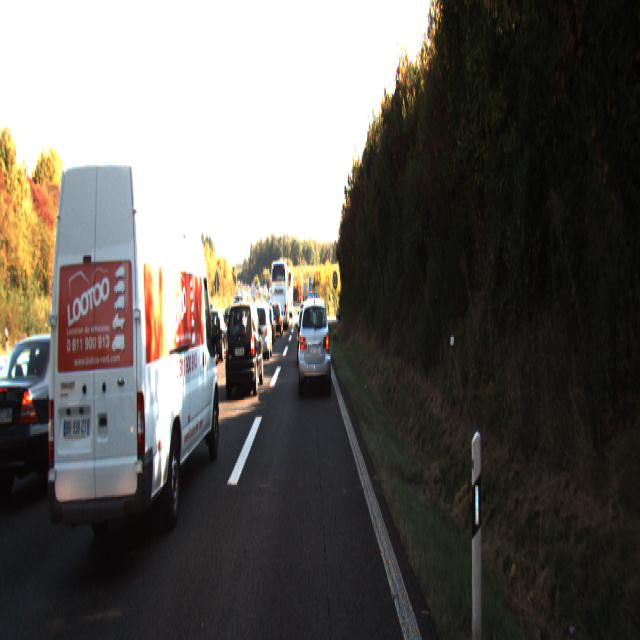Car: (40, 154, 222, 580), (0, 329, 116, 512), (113, 313, 181, 422), (223, 299, 264, 399), (298, 296, 331, 398), (202, 309, 231, 363), (249, 301, 273, 361), (271, 258, 290, 328), (260, 309, 276, 348)
